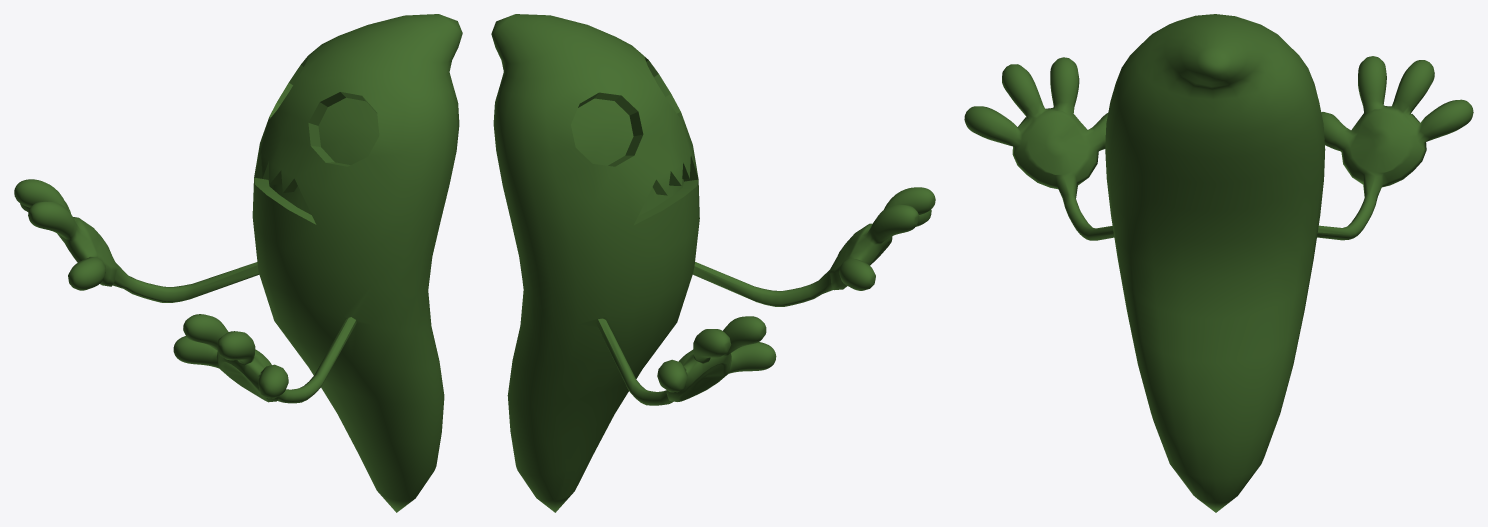
The model's file is ghost_elin.fbx.
The picture shows the model from 3 angles, left to right: view 1: azimuth 30°, elevation 25°; view 2: azimuth 150°, elevation 25°; view 3: azimuth 270°, elevation 25°; orthographic projection.
Parts seen in each view (by area): view 1: polySurface3; view 2: polySurface3; view 3: polySurface3.
Part boxes in pixels (box(x1,y1,x2,y2)): polySurface3: box(14, 14, 462, 512); polySurface3: box(491, 14, 935, 512); polySurface3: box(964, 14, 1473, 512).
Size of the model in its own units: 368 by 492 by 463.
